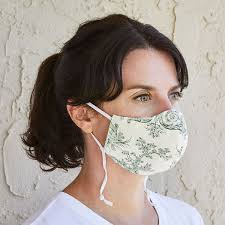cloth_mask: (104, 107, 189, 179)
